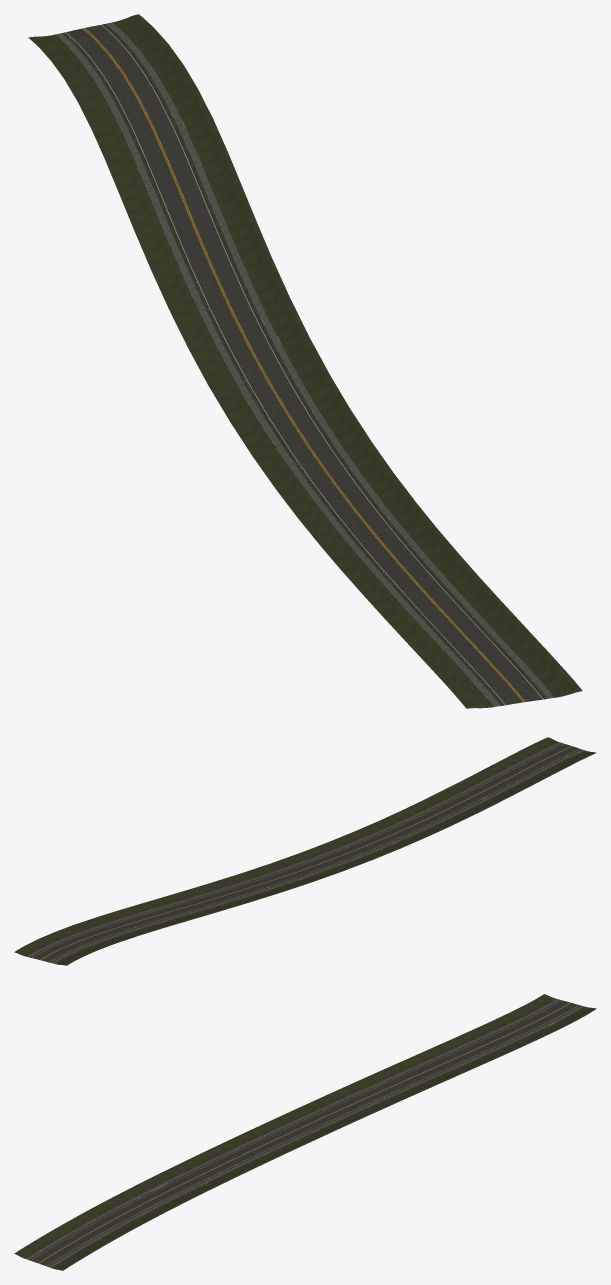
File: road.glb
3 views of the same model, one above another, from view 1: azimuth 30°, elevation 25°; view 2: azimuth 150°, elevation 25°; view 3: azimuth 330°, elevation 25° (orthographic). The views are drawn at different scales.
Visible parts, largest first — view 1: Material2 (×3); view 2: Material2 (×3); view 3: Material2 (×3).
Part boxes in pixels (x1,y1,x2,y2): Material2 (×3): [28, 14, 582, 708]; Material2 (×3): [14, 737, 596, 965]; Material2 (×3): [14, 994, 596, 1270].
Size of the model in its own units: 3212 by 371 by 10070.
Materials: 3 (3 with a texture image).
